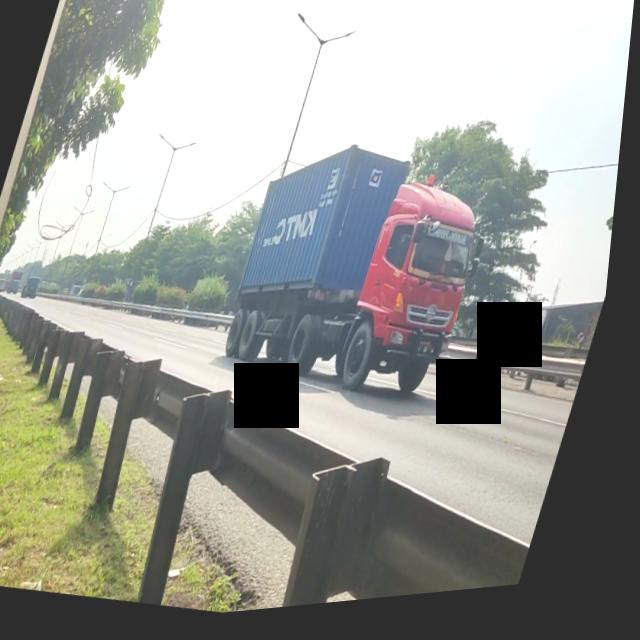Golongan IV: (214, 143, 510, 432)
